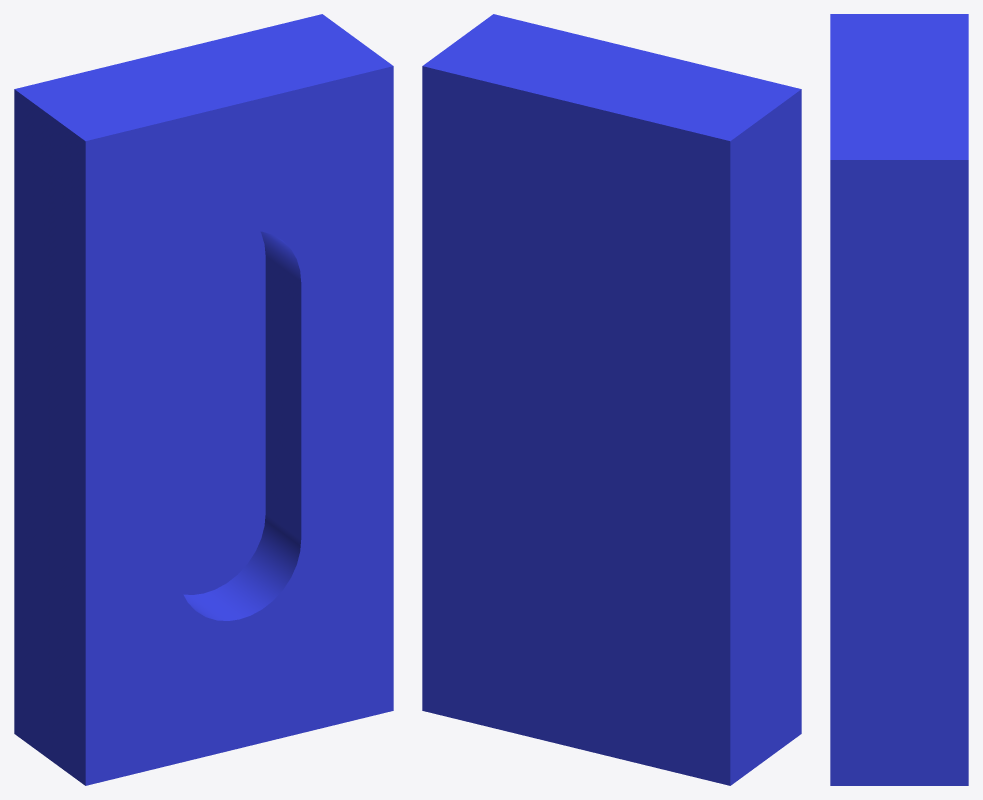
Rendered from slot joint v1.fbx.
The picture shows the model from 3 angles, left to right: view 1: azimuth 30°, elevation 25°; view 2: azimuth 150°, elevation 25°; view 3: azimuth 270°, elevation 25°; orthographic projection. The views are drawn at different scales.
Visible parts, largest first — view 1: Body2, Body1; view 2: Body1, Body2; view 3: Body1, Body2.
Part boxes in pixels (x1,y1,x2,y2): Body2: [50, 40, 393, 785]; Body1: [14, 14, 357, 759]; Body1: [422, 40, 765, 785]; Body2: [458, 14, 801, 759]; Body1: [899, 14, 968, 785]; Body2: [830, 14, 899, 785].
Size of the model in its own units: 127 by 254 by 50.8.
